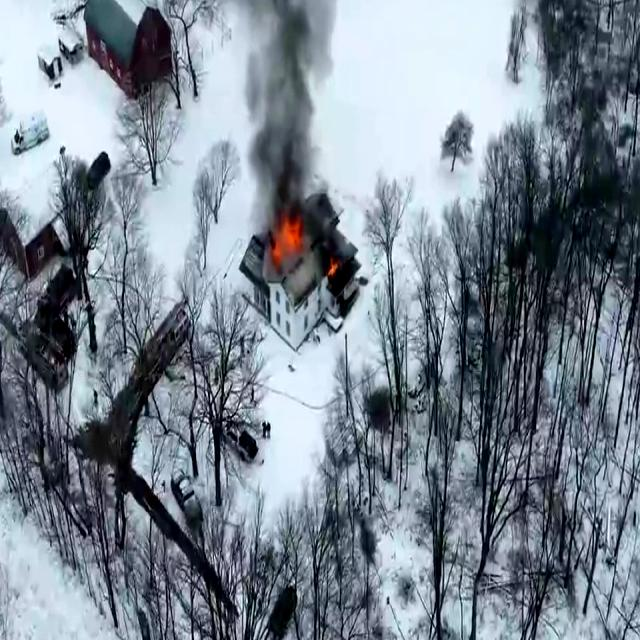fire: (275, 202, 306, 254)
smoke: (222, 0, 331, 164)
